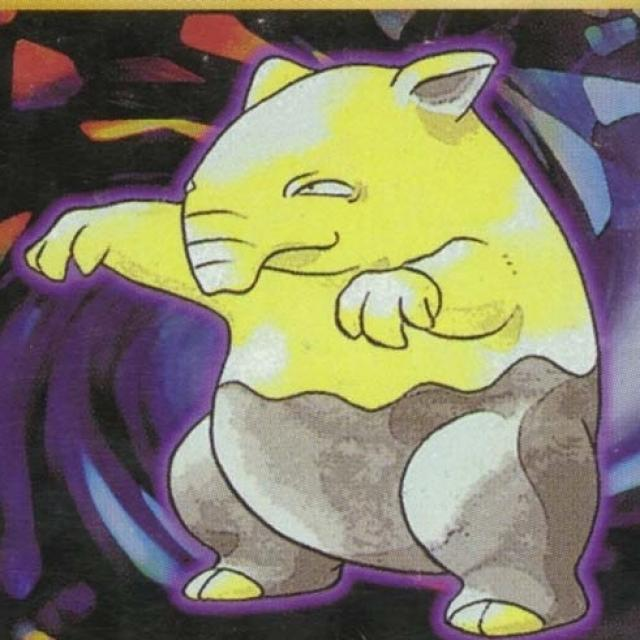Drowzee: (132, 58, 601, 599)
